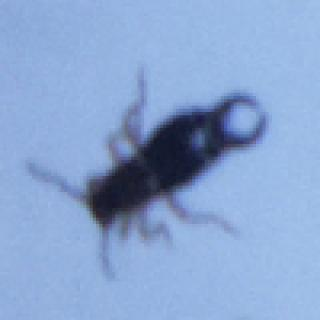earwig: (27, 62, 276, 283)
